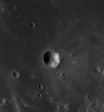crater: (37, 41, 72, 74)
